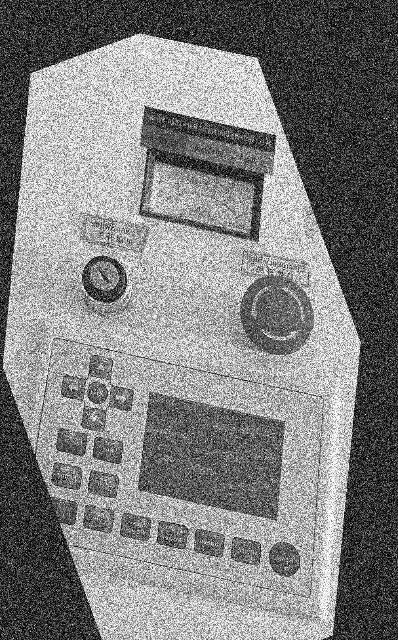Amp_Meter: (148, 160, 254, 235)
Display: (138, 393, 284, 520)
Down_button: (81, 406, 106, 431)
Emergency_Stop: (240, 275, 314, 355)
Enter_button: (56, 429, 87, 456)
Esc_button: (93, 437, 123, 464)
File_button: (83, 505, 114, 533)
Frame_button: (51, 462, 82, 490)
Left_button: (110, 385, 133, 411)
Max-Power_button: (120, 513, 151, 541)
Min-Power_button: (157, 521, 187, 549)
Origin_button: (88, 471, 118, 498)
Power_switch: (81, 255, 131, 314)
Pulse_button: (231, 537, 261, 565)
Reset_button: (270, 542, 300, 576)
Right_button: (61, 375, 85, 400)
Speed_button: (194, 529, 224, 557)
Start-Pause_button: (51, 497, 77, 524)
Up_button: (89, 355, 113, 380)
Z_U_button: (87, 382, 108, 404)
